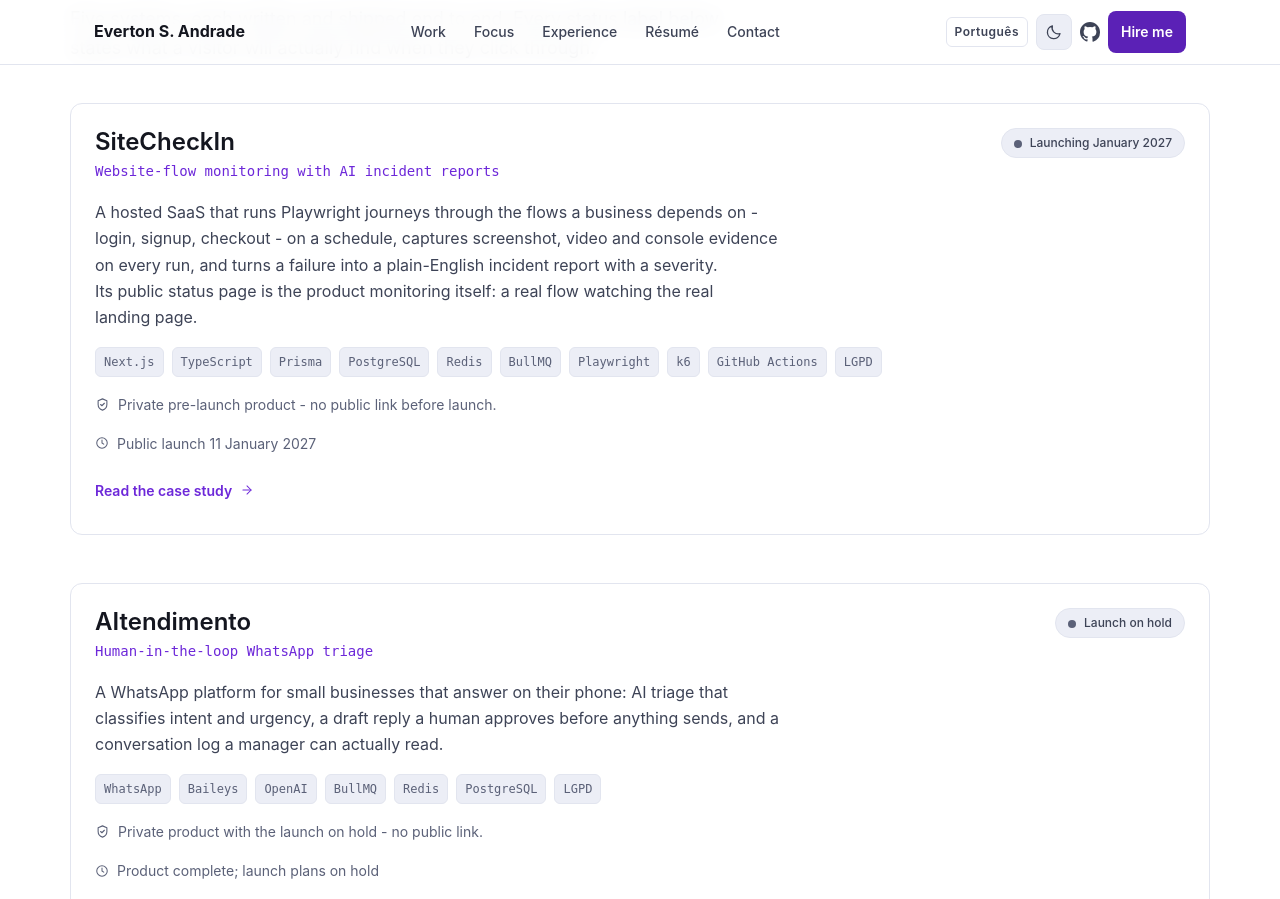
Scenario: case study disclosure › starts closed and opens on request, reporting its state
(page scrolled)
Click the button "Read the case study" below "Public launch 11 January 2027". click: (175, 490)
box: [95,471,254,510]
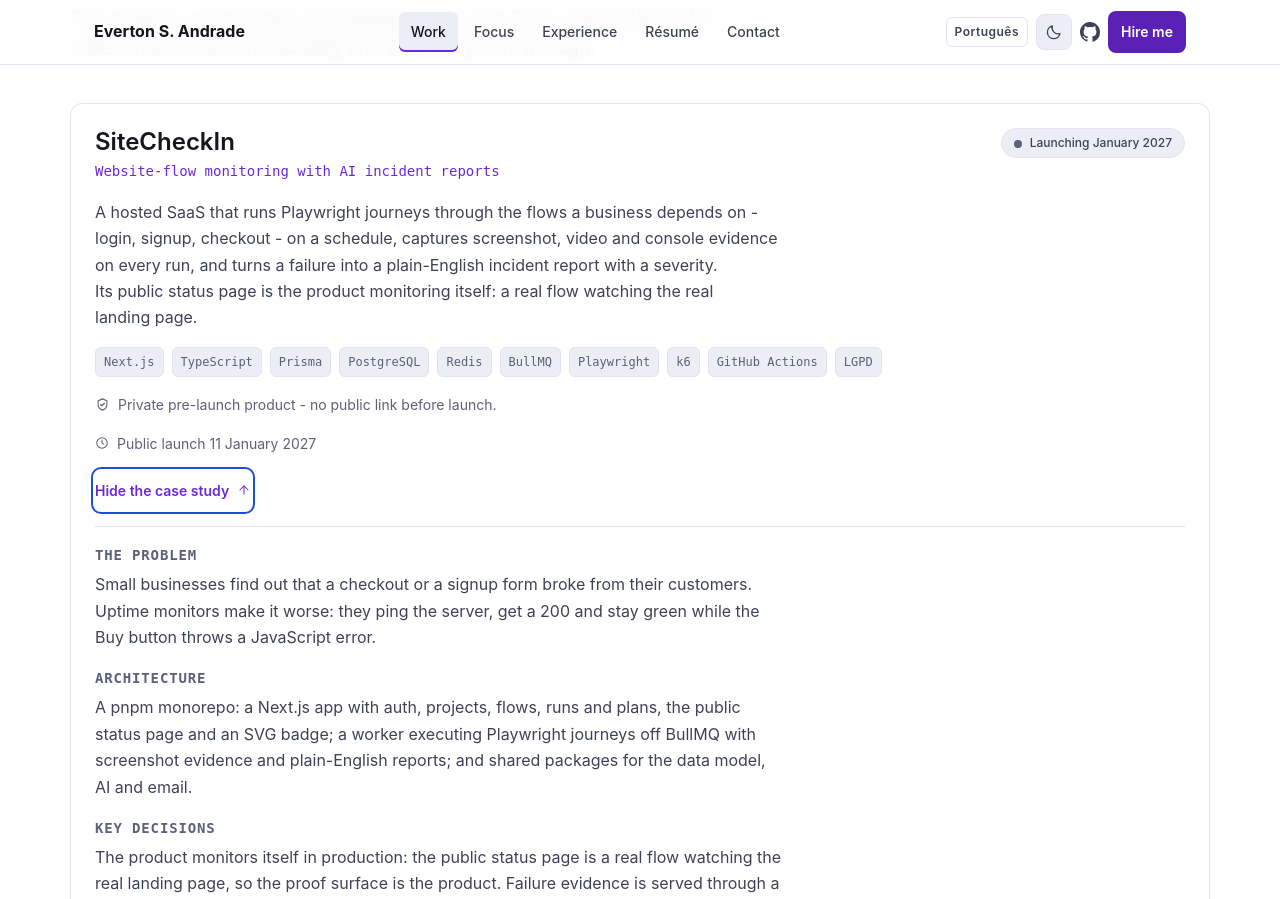
expect the button named "read the case study" is expanded: met, box [95,471,251,510]
expect the heading "The problem" is shown: met, box [95,547,197,563]
